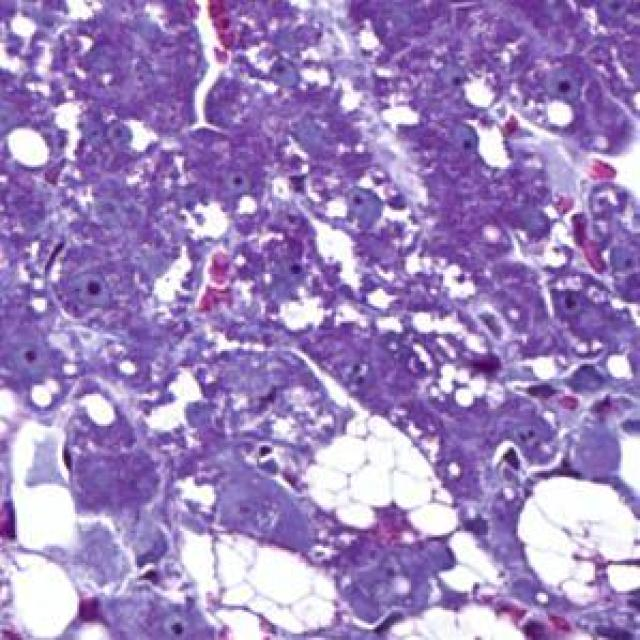ballooning: (298, 405, 462, 548), (172, 528, 340, 634), (516, 466, 636, 606)
